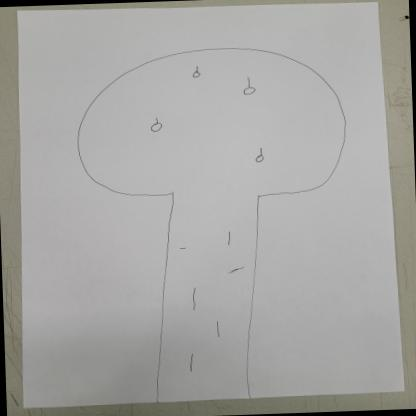apple: (242, 78, 258, 97), (252, 148, 269, 164), (149, 119, 166, 133), (192, 66, 202, 80)
crown_mushroom: (71, 43, 353, 208)
trunk_bark: (154, 230, 270, 380)
